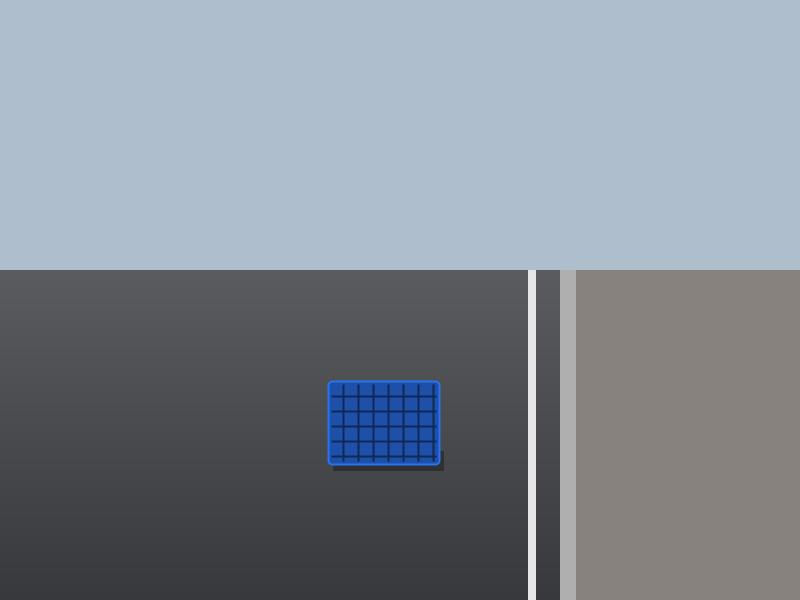ROAD_OBSTACLE: (328, 381, 439, 464)
